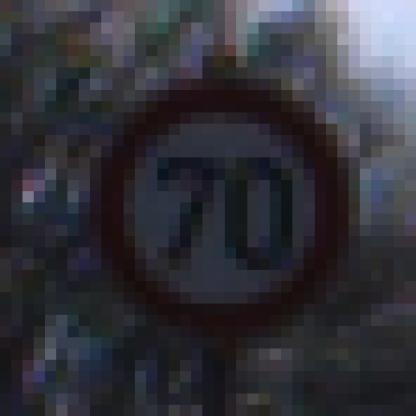Speed Limit 70: (108, 86, 344, 327)
